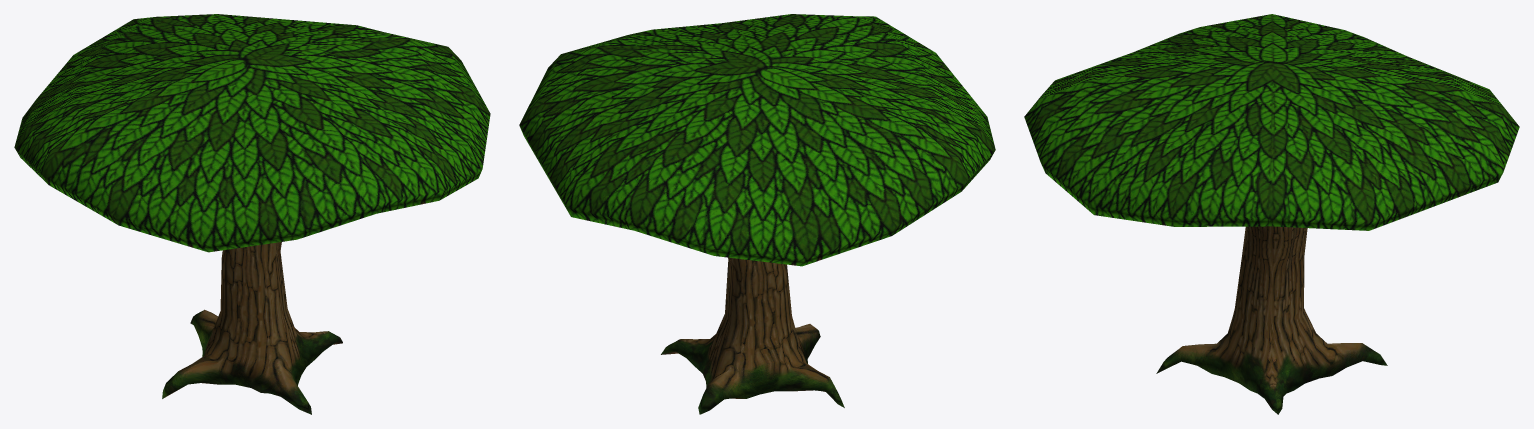
The model's file is TreeShape.dae.
The picture shows the model from 3 angles, left to right: view 1: azimuth 30°, elevation 25°; view 2: azimuth 150°, elevation 25°; view 3: azimuth 270°, elevation 25°; orthographic projection.
Visible parts, largest first — view 1: Tree; view 2: Tree; view 3: Tree.
Part boxes in pixels (<box>): Tree: <box>14,14,490,414</box>; Tree: <box>519,14,995,414</box>; Tree: <box>1024,14,1519,414</box>.
Bounding box in the file's own units: 10 × 7.29 × 10.38.
